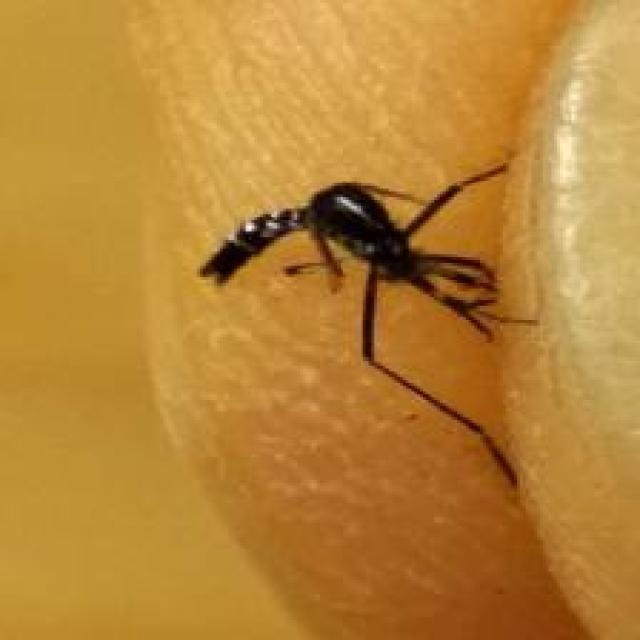Aedes albopictus: (197, 157, 540, 492)
